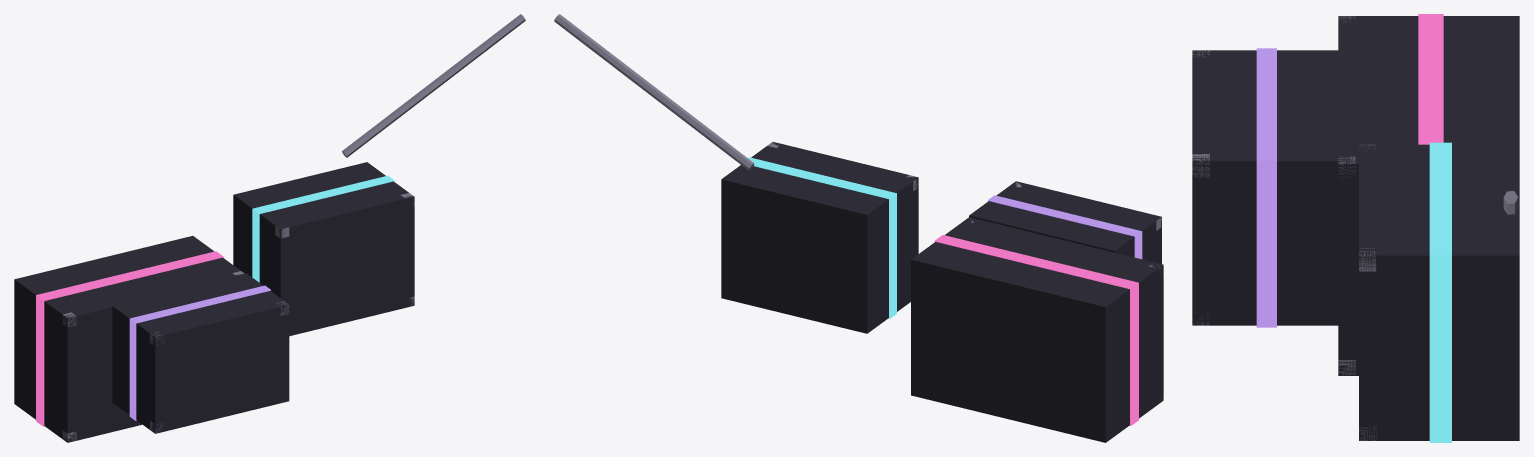
File: caisses.glb
3 renders of one model, left to right at view 1: azimuth 30°, elevation 25°; view 2: azimuth 150°, elevation 25°; view 3: azimuth 270°, elevation 25°, orthographic. The views are drawn at different scales.
Parts seen in each view (by area): view 1: caisse1, caisse2, caisse0, ruban0, cable, ruban2, ruban1; view 2: caisse0, caisse1, caisse2, ruban0, cable, ruban1, ruban2; view 3: caisse1, caisse2, caisse0, ruban1, ruban2, ruban0, cable.
Boxes of the visible parts, left/top/right/bottom form: caisse1: left=233, top=162, right=414, bottom=336; caisse2: left=112, top=273, right=289, bottom=433; caisse0: left=14, top=236, right=243, bottom=442; ruban0: left=36, top=251, right=223, bottom=426; cable: left=342, top=14, right=525, bottom=157; ruban2: left=129, top=285, right=270, bottom=420; ruban1: left=252, top=175, right=394, bottom=282; caisse0: left=911, top=217, right=1163, bottom=442; caisse1: left=721, top=142, right=918, bottom=333; caisse2: left=969, top=181, right=1161, bottom=263; ruban0: left=934, top=235, right=1138, bottom=425; cable: left=554, top=14, right=754, bottom=170; ruban1: left=748, top=157, right=896, bottom=318; ruban2: left=988, top=195, right=1142, bottom=259; caisse1: left=1359, top=144, right=1519, bottom=440; caisse2: left=1192, top=50, right=1338, bottom=325; caisse0: left=1338, top=16, right=1519, bottom=375; ruban1: left=1429, top=142, right=1451, bottom=442; ruban2: left=1256, top=48, right=1276, bottom=327; ruban0: left=1418, top=14, right=1443, bottom=144; cable: left=1503, top=191, right=1518, bottom=214.
Size of the model in its own units: 3.42 by 1.73 by 1.12.
